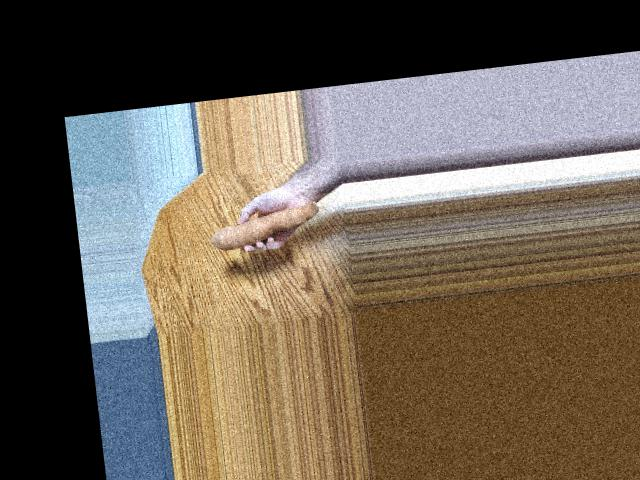sweet_potato: (202, 198, 316, 258)
